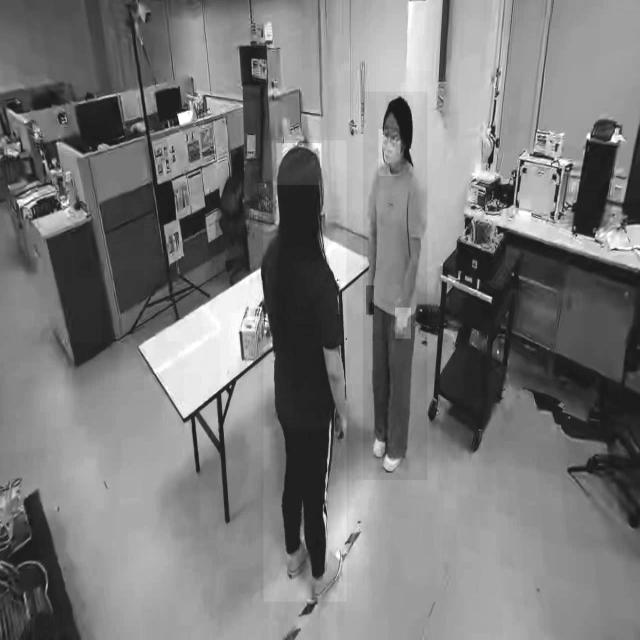face_mask: (378, 129, 401, 176)
hand_noglove: (332, 404, 350, 444), (395, 308, 411, 340), (366, 286, 374, 316)
head_nohelmet: (276, 143, 322, 186), (385, 95, 413, 119)
person: (263, 140, 347, 602), (362, 91, 428, 481)
shoes: (312, 546, 346, 602), (286, 519, 316, 580), (383, 429, 409, 475), (372, 418, 393, 460)
